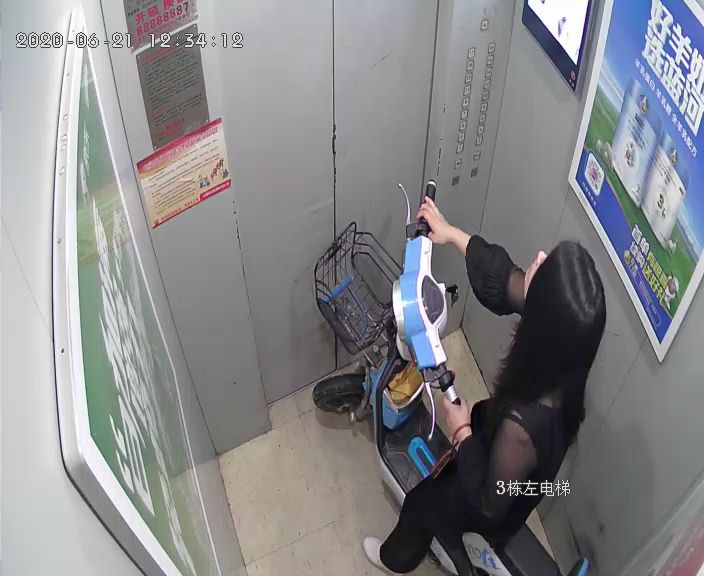Electric-bicycle: (310, 179, 592, 576)
